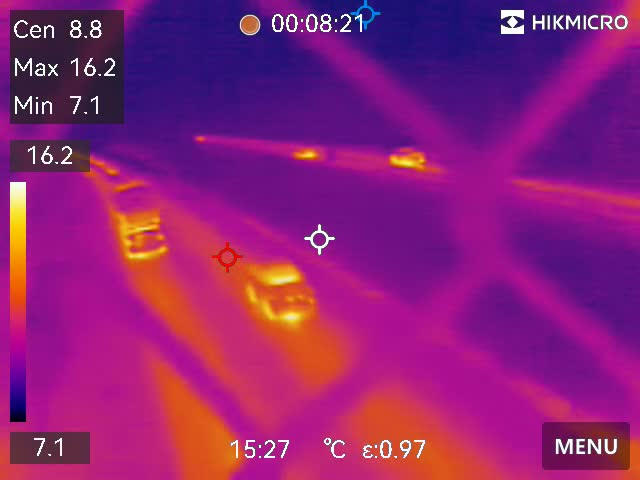vehicle: (101, 182, 175, 265), (253, 252, 317, 331), (387, 144, 428, 169)
